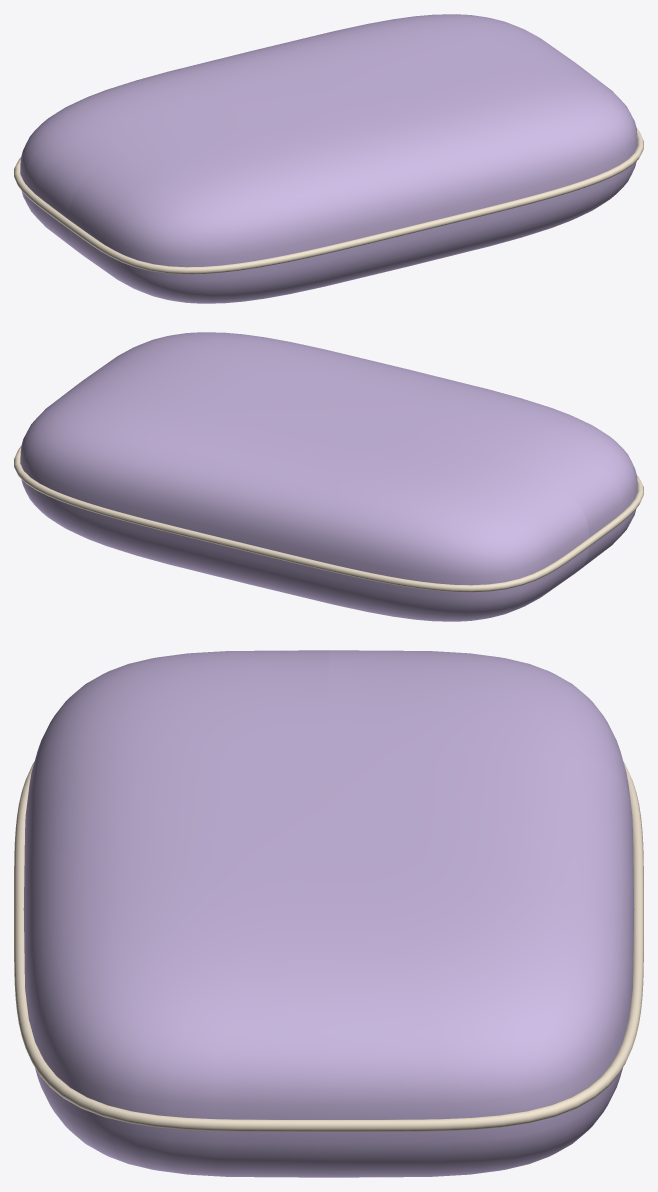
The model's file is pillow.glb.
3 views of the same model, one above another, from view 1: azimuth 30°, elevation 25°; view 2: azimuth 150°, elevation 25°; view 3: azimuth 270°, elevation 25° (orthographic). The views are drawn at different scales.
Visible parts, largest first — view 1: Pillow_soft_shell, Pillow_cream_piping; view 2: Pillow_soft_shell, Pillow_cream_piping; view 3: Pillow_soft_shell, Pillow_cream_piping.
Boxes of the visible parts, x1,y1,x2,y2 form: Pillow_soft_shell: [20, 14, 637, 303]; Pillow_cream_piping: [14, 128, 643, 274]; Pillow_soft_shell: [20, 332, 637, 621]; Pillow_cream_piping: [14, 446, 643, 592]; Pillow_soft_shell: [23, 650, 634, 1177]; Pillow_cream_piping: [14, 761, 643, 1131].
Bounding box in the file's own units: 1.26 × 0.3 × 0.784.
